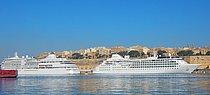Ship: (96, 51, 206, 79)
